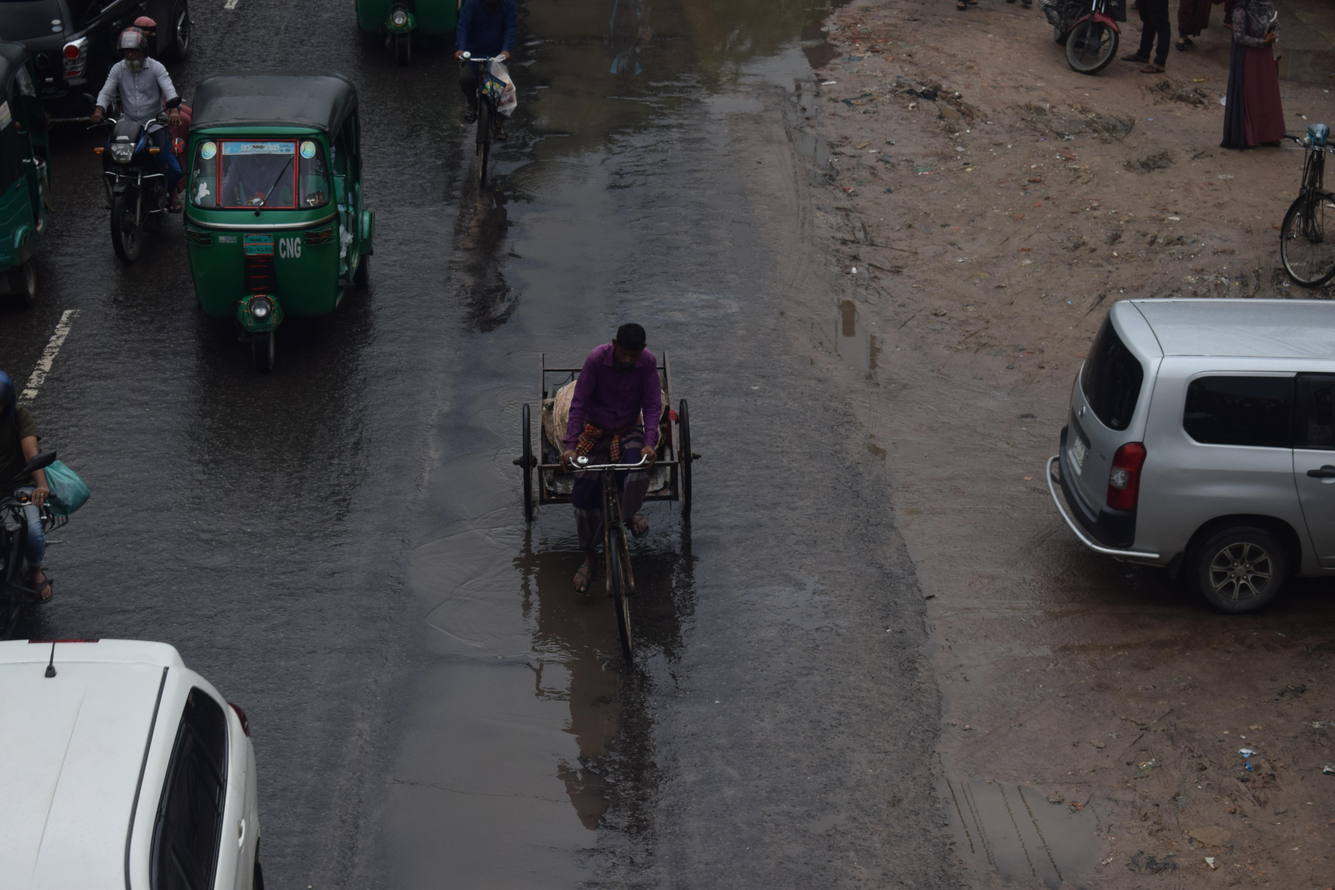Bike: (72, 1, 209, 296)
Car: (982, 234, 1335, 661), (449, 299, 745, 686), (0, 545, 316, 890)
